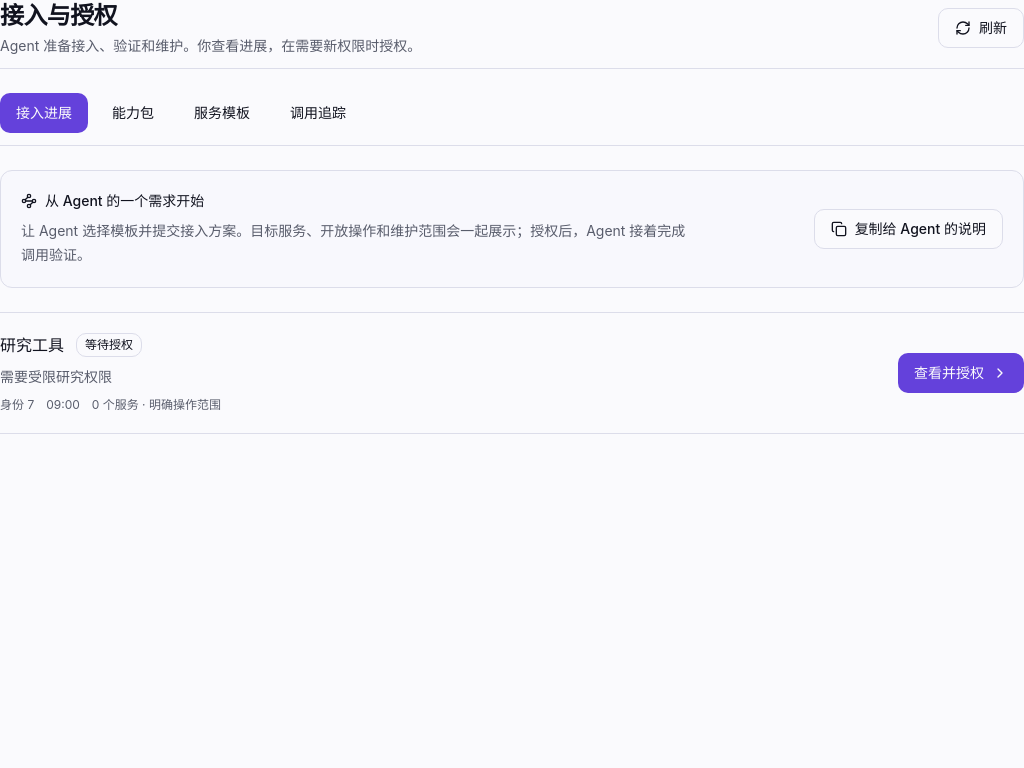
requires inspection and sends exactly the reviewed digest once
The width and height of the screenshot is (1024, 768).
Click the button "查看并授权" at [961, 373], box [898,353,1023,393]
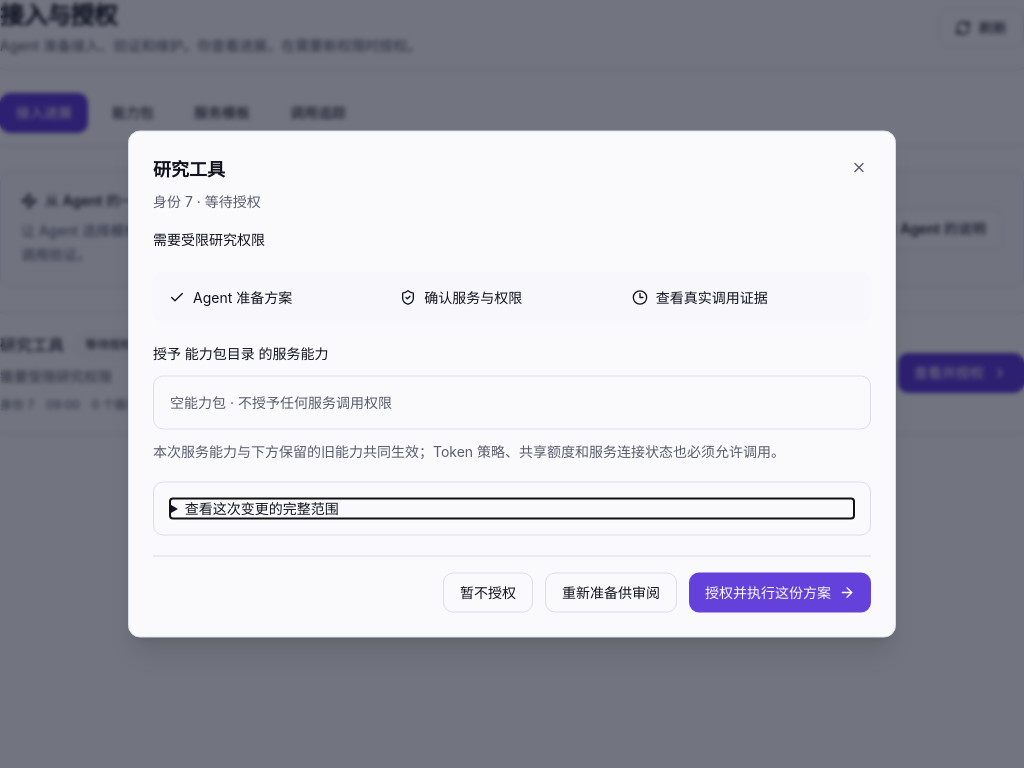
Expected: the dialog shows "空能力包", [170,394,392,410]
Click the button "授权并执行这份方案" at [780, 592], box [689,572,871,612]
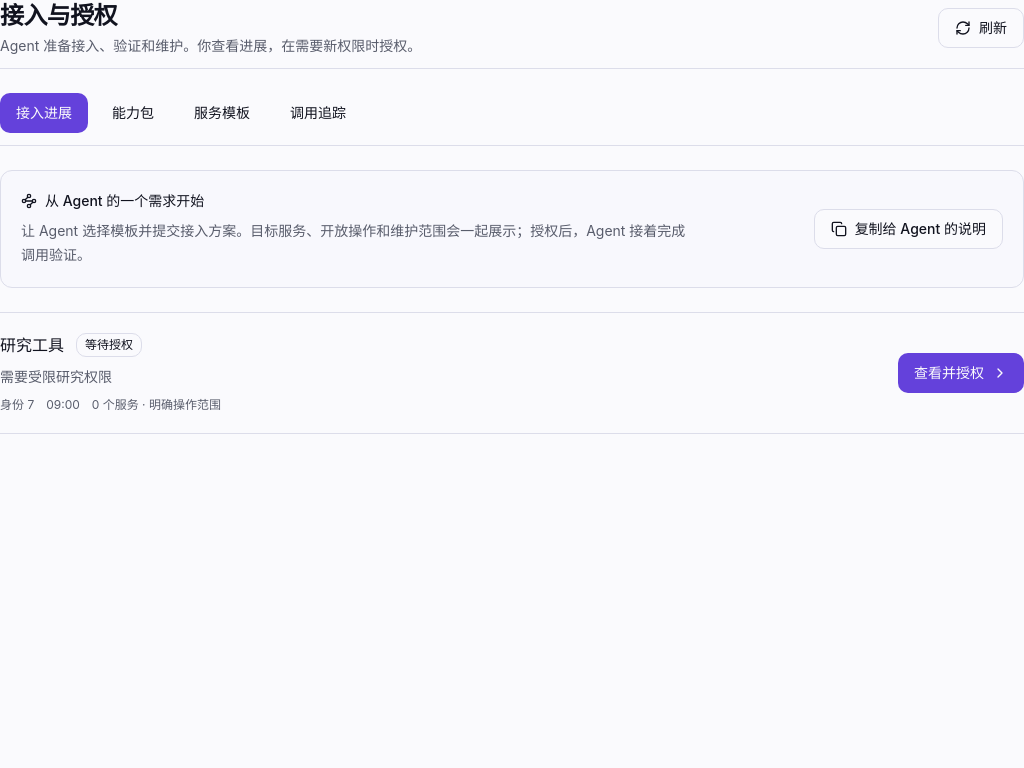
Expected: the dialog is gone
